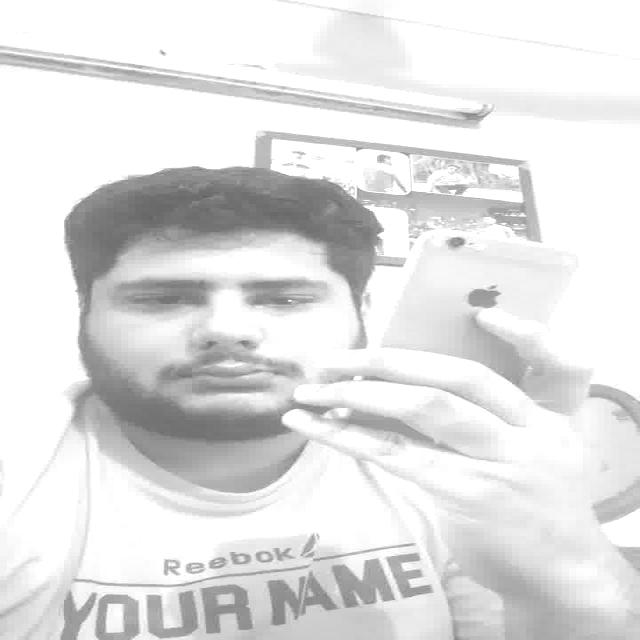fake: (342, 218, 596, 474)
real: (79, 227, 362, 452), (115, 267, 326, 316)
